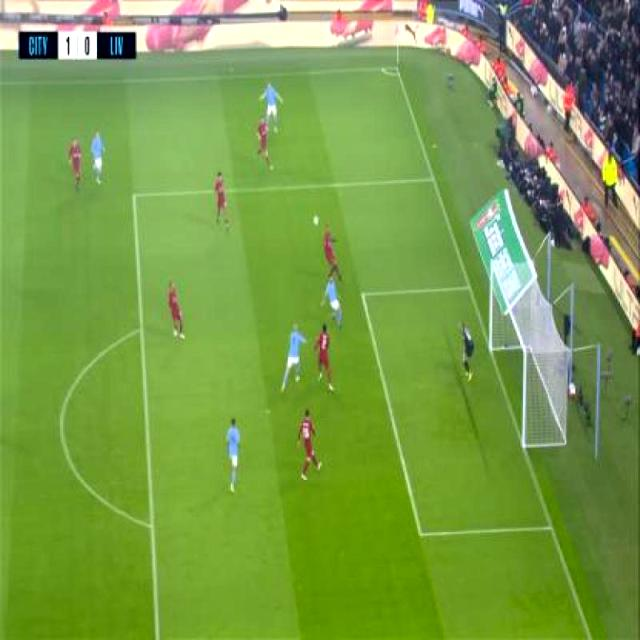bigarea_top_inner: (126, 184, 144, 210)
bigarea_top_outter: (429, 168, 439, 188)
bottom_arc_area_intersection: (143, 514, 160, 536)
corner: (385, 62, 400, 76)
smallarea_bottom_inner: (414, 518, 429, 548)
smallarea_bottom_outter: (542, 512, 560, 542)
smallarea_top_inner: (357, 284, 369, 306)
smallarea_top_outter: (462, 278, 476, 297)
top_arc_area_intersection: (134, 318, 149, 342)
